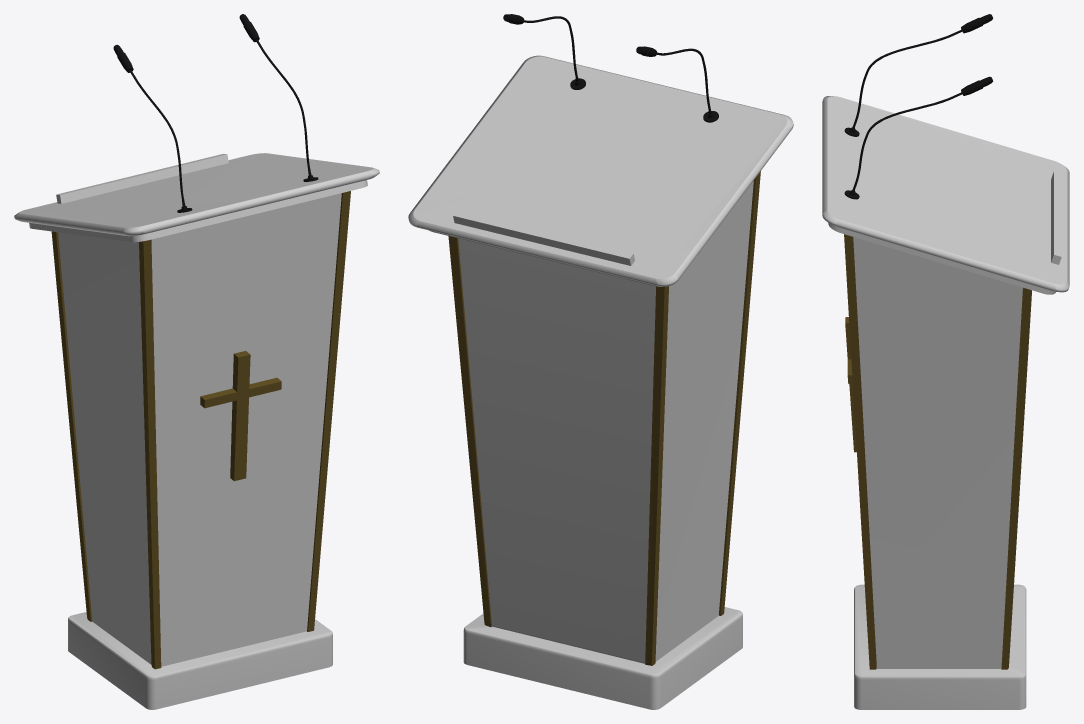
Rendered from Church Podium.FBX.
3 views of the same model, side by side, from view 1: azimuth 30°, elevation 25°; view 2: azimuth 150°, elevation 25°; view 3: azimuth 270°, elevation 25° (orthographic). The views are drawn at different scales.
Parts seen in each view (by area): view 1: Church Podium; view 2: Church Podium; view 3: Church Podium.
Boxes of the visible parts, x1,y1,x2,y2 form: Church Podium: (14,14,379,709); Church Podium: (408,14,793,709); Church Podium: (822,14,1069,709).
Bounding box in the file's own units: 62.78 × 144 × 51.96.
